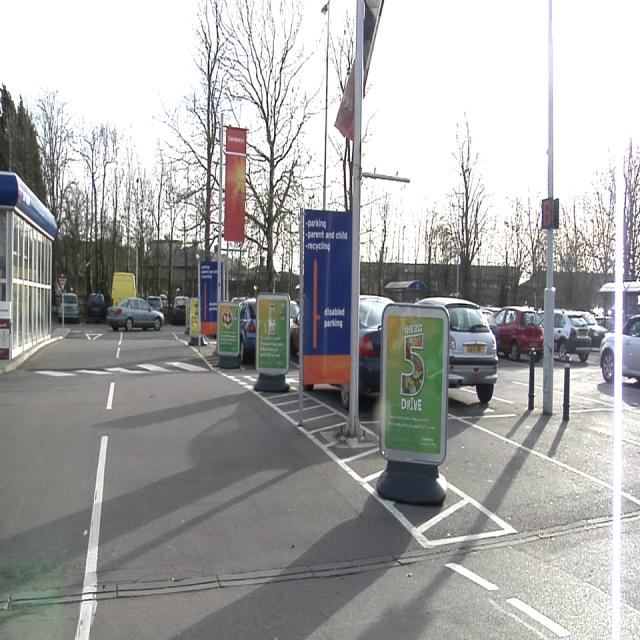Building: (1, 172, 55, 358)
Car: (440, 303, 501, 403), (553, 311, 603, 360), (496, 308, 543, 359), (109, 298, 163, 330), (620, 316, 639, 382)
Road: (3, 324, 595, 639)
Tree: (4, 3, 322, 302), (157, 1, 321, 286), (374, 115, 543, 299), (621, 137, 639, 279)
